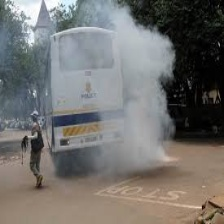smoke: (106, 19, 174, 169)
